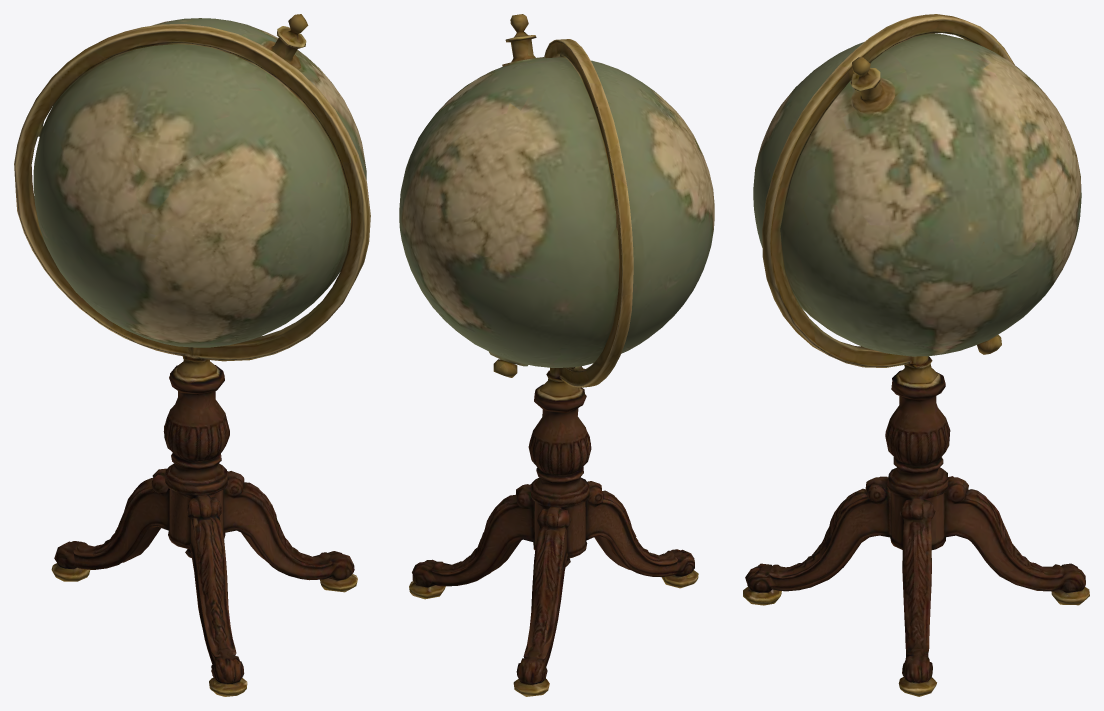
File: globe.glb
3 renders of one model, left to right at view 1: azimuth 30°, elevation 25°; view 2: azimuth 150°, elevation 25°; view 3: azimuth 270°, elevation 25°, orthographic. The views are drawn at different scales.
Parts seen in each view (by area): view 1: tripo_node_0d40ff71-5481-495d-adb3-3547700e4ca0; view 2: tripo_node_0d40ff71-5481-495d-adb3-3547700e4ca0; view 3: tripo_node_0d40ff71-5481-495d-adb3-3547700e4ca0.
Part boxes in pixels (left/top/right/bottom): tripo_node_0d40ff71-5481-495d-adb3-3547700e4ca0: left=14, top=14, right=370, bottom=696; tripo_node_0d40ff71-5481-495d-adb3-3547700e4ca0: left=399, top=14, right=714, bottom=696; tripo_node_0d40ff71-5481-495d-adb3-3547700e4ca0: left=743, top=14, right=1089, bottom=696.
Size of the model in its own units: 0.5047 by 0.9803 by 0.5147.
1 material, 1 textured.
